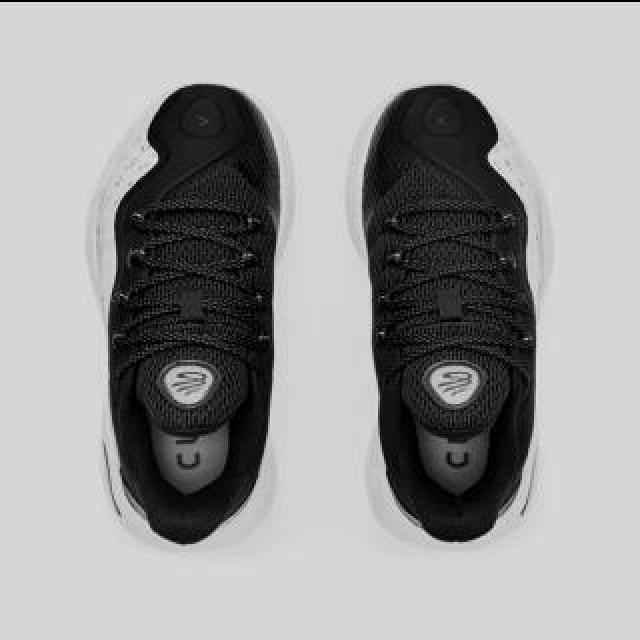shoe: (81, 78, 297, 554), (340, 82, 544, 550)
